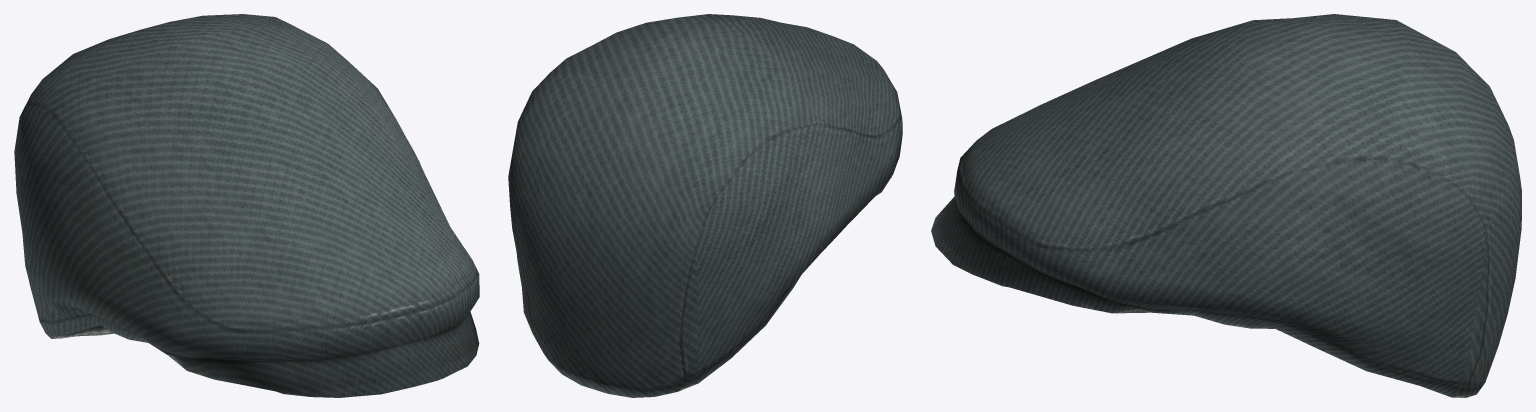
File: Hat.FBX
The picture shows the model from 3 angles, left to right: view 1: azimuth 30°, elevation 25°; view 2: azimuth 150°, elevation 25°; view 3: azimuth 270°, elevation 25°; orthographic projection. The views are drawn at different scales.
Parts seen in each view (by area): view 1: hat; view 2: hat; view 3: hat.
Boxes of the visible parts, box(x1,y1,x2,y2) form: hat: box(14, 14, 479, 397); hat: box(508, 14, 902, 397); hat: box(931, 14, 1521, 397).
Size of the model in its own units: 21.65 by 22.8 by 35.76.
1 material, 1 textured.
